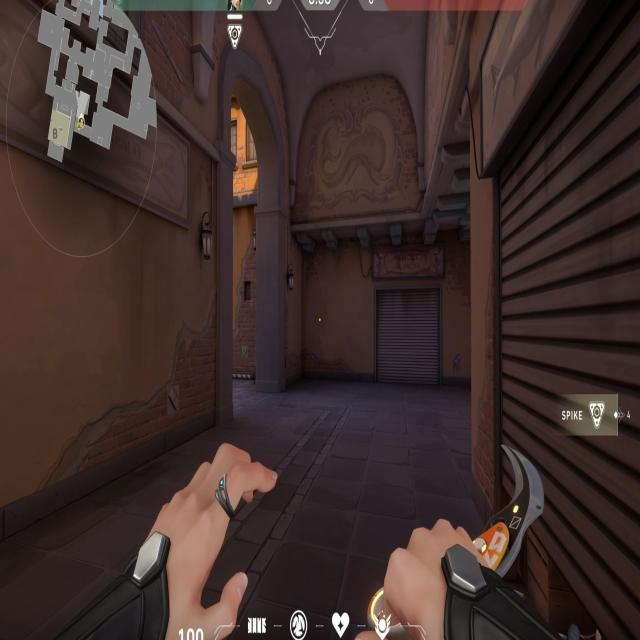B_Main_Corner: (470, 3, 640, 640)
